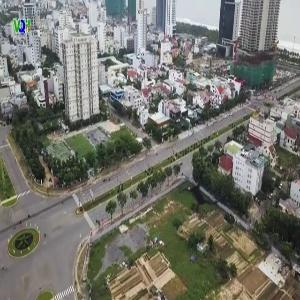drone: (162, 154, 244, 236)
